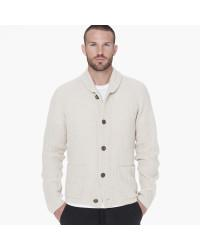C_cardigan sweater: (35, 73, 173, 220)
